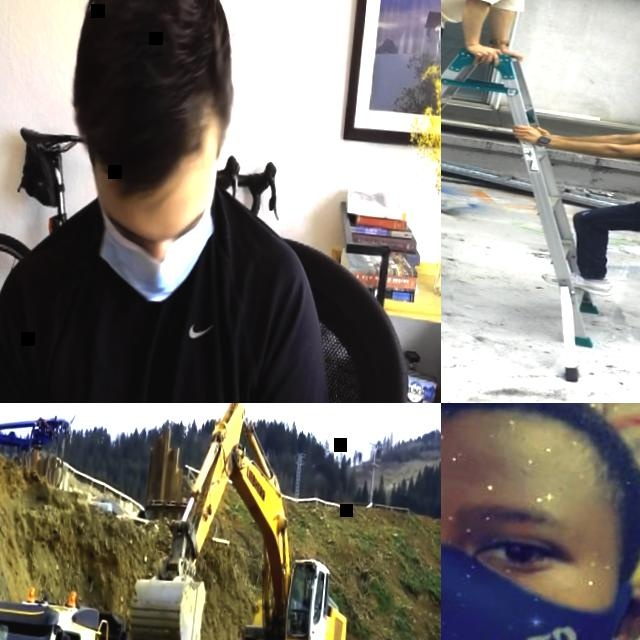Mask: (441, 523, 628, 640), (89, 197, 217, 306)
NO-Hardhat: (57, 0, 245, 189), (441, 403, 640, 500)
NO-Safety Vest: (8, 182, 285, 403)
Person: (0, 0, 376, 403), (441, 403, 640, 640), (493, 60, 640, 350), (441, 0, 599, 156), (303, 587, 319, 628)
machinery: (120, 403, 365, 640), (0, 406, 72, 489)
